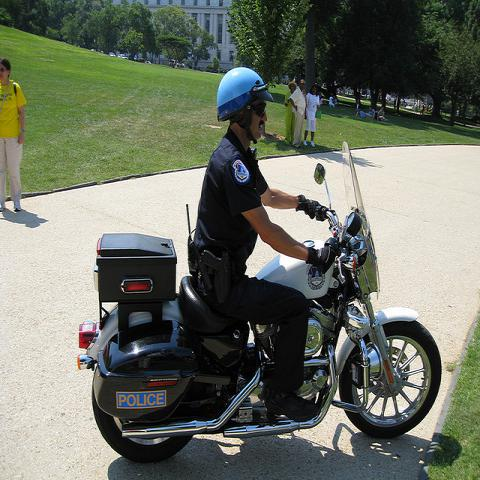motorcycle: (74, 135, 446, 466)
